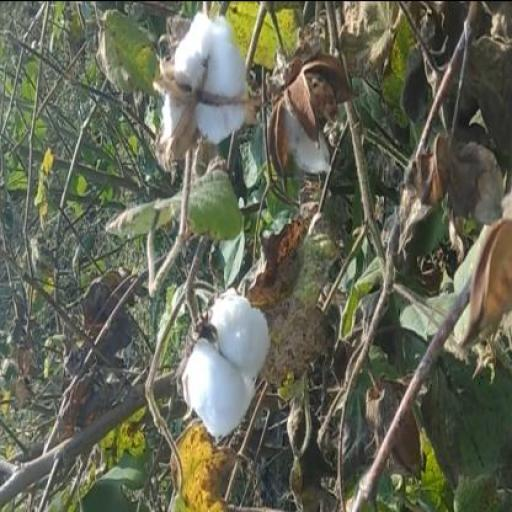cotton_ready: (166, 242, 272, 464), (149, 13, 268, 183)
